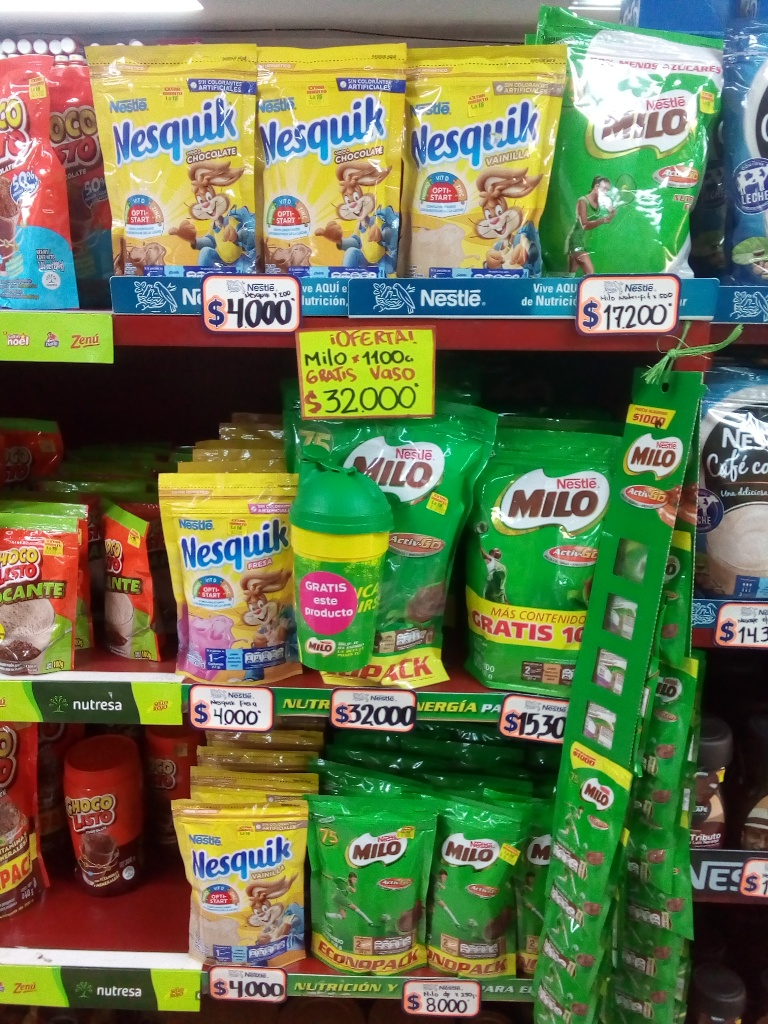COL0170102DYP10000: (89, 495, 160, 661)
COL0170103TRR30000: (53, 740, 150, 896)
COL0170104DYP20000: (0, 57, 88, 314)
COL0170203DYP25000: (304, 791, 432, 974)
COL0170203DYP50000: (467, 422, 601, 692)
COL0170205DYP50000: (535, 9, 724, 280)
COL0170303DYP20000: (83, 45, 258, 277)
COL0170305DYP20000: (157, 470, 300, 685)
COL0170306DYP20000: (400, 40, 562, 281)
